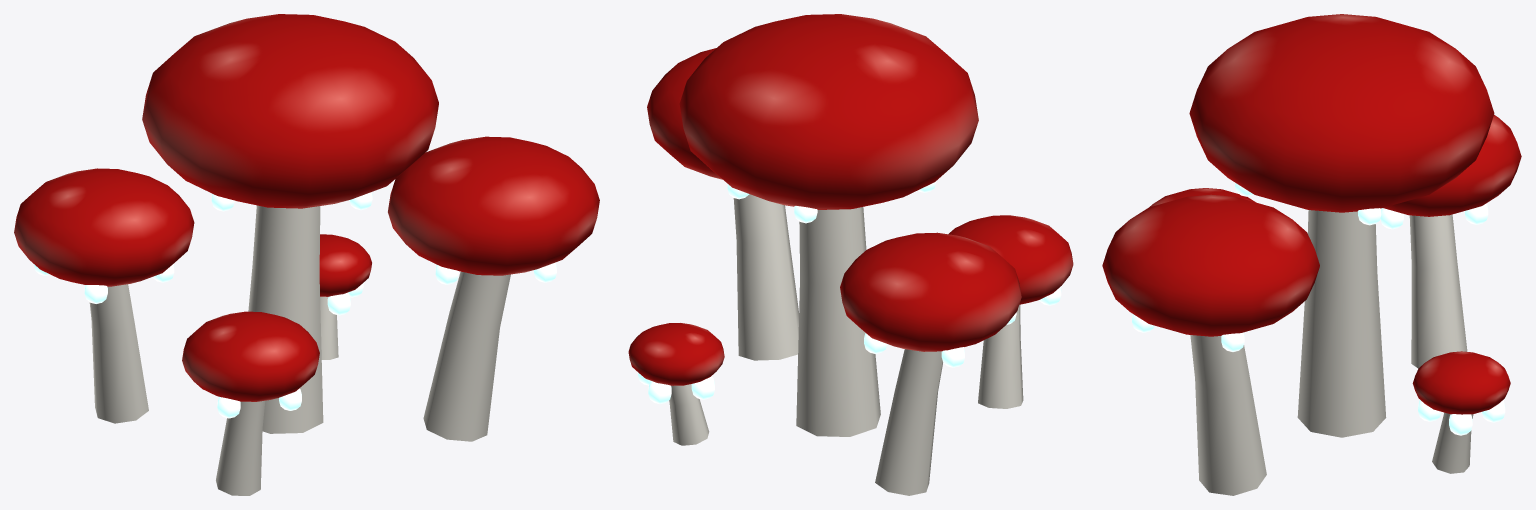
The model's file is mushroom_cluster.glb.
3 views of the same model, side by side, from view 1: azimuth 30°, elevation 25°; view 2: azimuth 150°, elevation 25°; view 3: azimuth 270°, elevation 25° (orthographic).
Size of the model in its own units: 0.98 by 0.7899 by 0.77.
4 materials, 1 textured.
